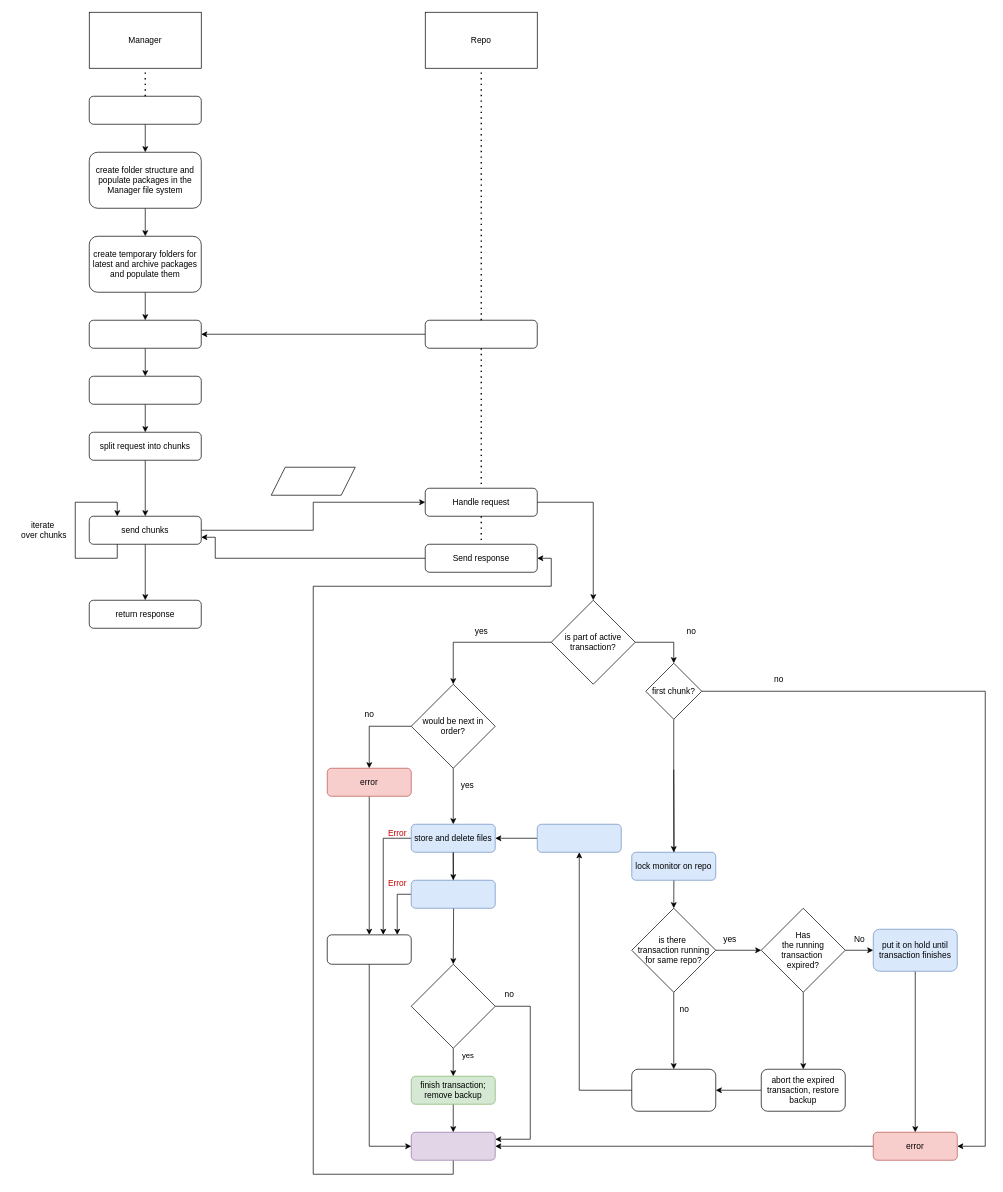
This 1003x1192 diagram has some shape labels left out. Each missing label, with the centre of its shape:
"abort transaction, restore backup" goes at (369,949).
"boost repository version" goes at (453,894).
"filter packages and build request body" goes at (145,390).
"get list of currently uploaded packages from the repository" goes at (145,334).
"init transaction; create backup of repository state" goes at (673,1090).
"request (chunk)" goes at (313,481).
"return" goes at (453,1146).
"return current repository state" goes at (481,334).
"start publication" goes at (145,110).
"unlock monitor on repo" goes at (579,838).
"was last chunk?" goes at (453,1006).
